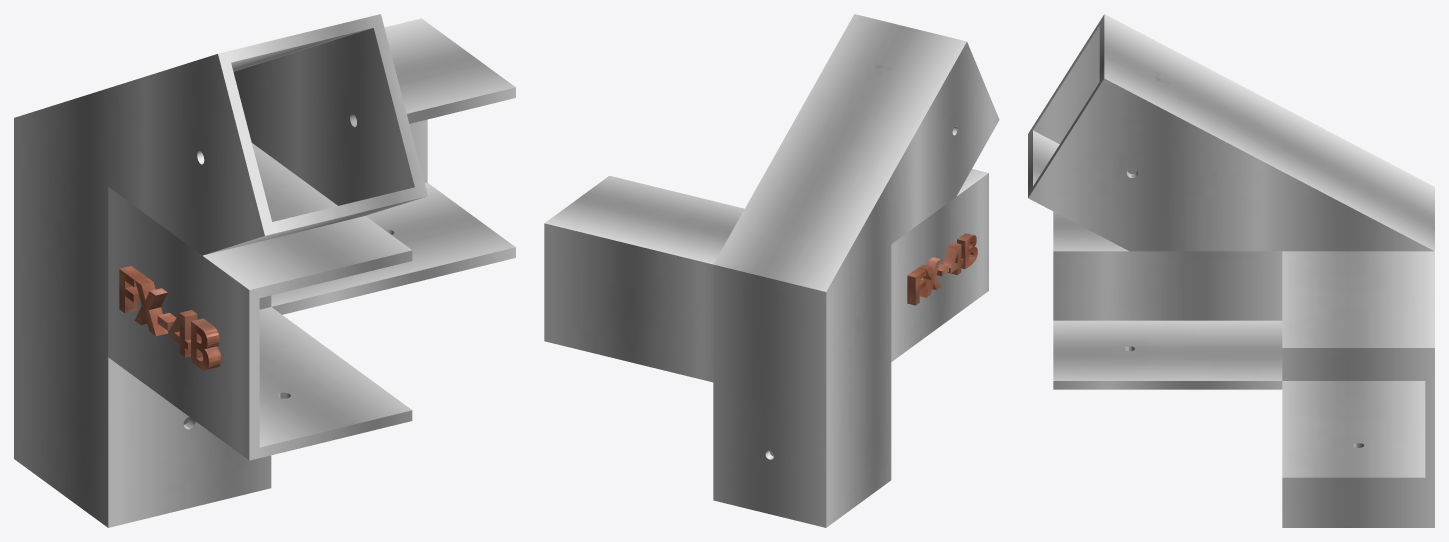
Rendered from FLEX MINI FX 4B.glb.
3 views of the same model, side by side, from view 1: azimuth 30°, elevation 25°; view 2: azimuth 150°, elevation 25°; view 3: azimuth 270°, elevation 25° (orthographic). The views are drawn at different scales.
Parts seen in each view (by area): view 1: G-Object.003, G-Object, G-Object.001, G-Object.002, C-FX-4B; view 2: G-Object.003, G-Object, G-Object.002, G-Object.001, C-FX-4B; view 3: G-Object.003, G-Object.001, G-Object.002, G-Object.
Boxes of the visible parts, box(x1,y1,x2,y2) form: G-Object.003: box(14, 14, 427, 255); G-Object: box(14, 118, 271, 527); G-Object.001: box(108, 149, 412, 460); G-Object.002: box(271, 18, 515, 314); C-FX-4B: box(119, 266, 221, 370); G-Object.003: box(713, 14, 999, 291); G-Object: box(713, 245, 891, 527); G-Object.002: box(544, 175, 744, 382); G-Object.001: box(891, 169, 988, 361); C-FX-4B: box(907, 233, 977, 305); G-Object.003: box(1028, 14, 1434, 251); G-Object.001: box(1053, 211, 1282, 389); G-Object.002: box(1282, 251, 1434, 486); G-Object: box(1282, 356, 1434, 527).
Bounding box in the file's own units: 0.103 × 0.13 × 0.1066.
2 materials, 2 textured.
